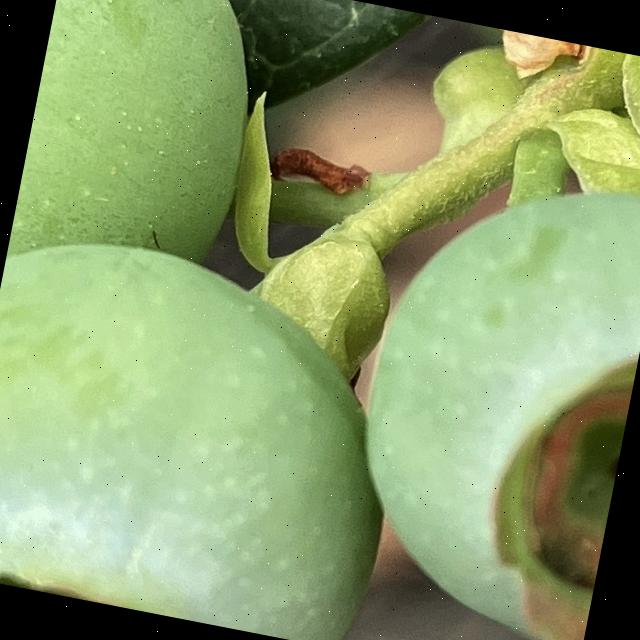Blueberries: (0, 216, 431, 640), (0, 0, 288, 415)
